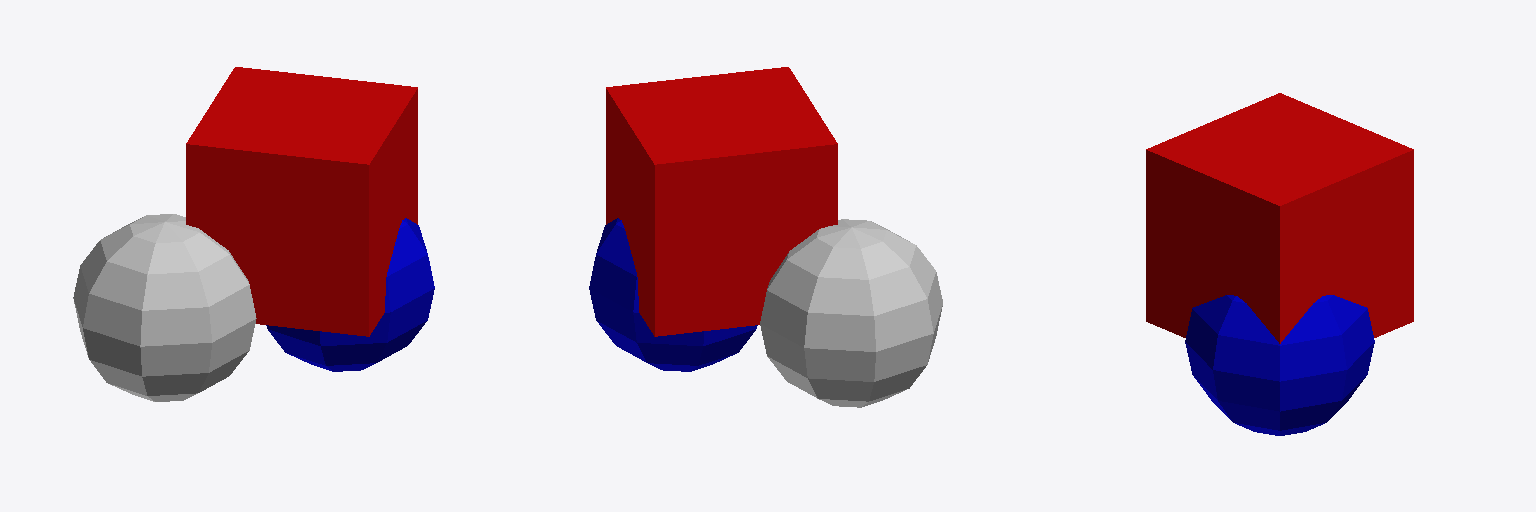
The model's file is triple.obj.
The picture shows the model from 3 angles: view 1: azimuth 30°, elevation 25°; view 2: azimuth 150°, elevation 25°; view 3: azimuth 270°, elevation 25°; orthographic projection.
Visible parts, largest first — view 1: Top_Cube.001, Sphere.001, Sphere; view 2: Top_Cube.001, Sphere.001, Sphere; view 3: Top_Cube.001, Sphere.
Boxes of the visible parts, box(x1,y1,x2,y2) form: Top_Cube.001: box(186, 67, 417, 336); Sphere.001: box(73, 214, 256, 401); Sphere: box(266, 218, 434, 371); Top_Cube.001: box(606, 67, 837, 336); Sphere.001: box(760, 219, 942, 407); Sphere: box(589, 218, 757, 371); Top_Cube.001: box(1146, 93, 1413, 343); Sphere: box(1185, 295, 1374, 435).
Size of the model in its own units: 4.12 by 3 by 2.83.